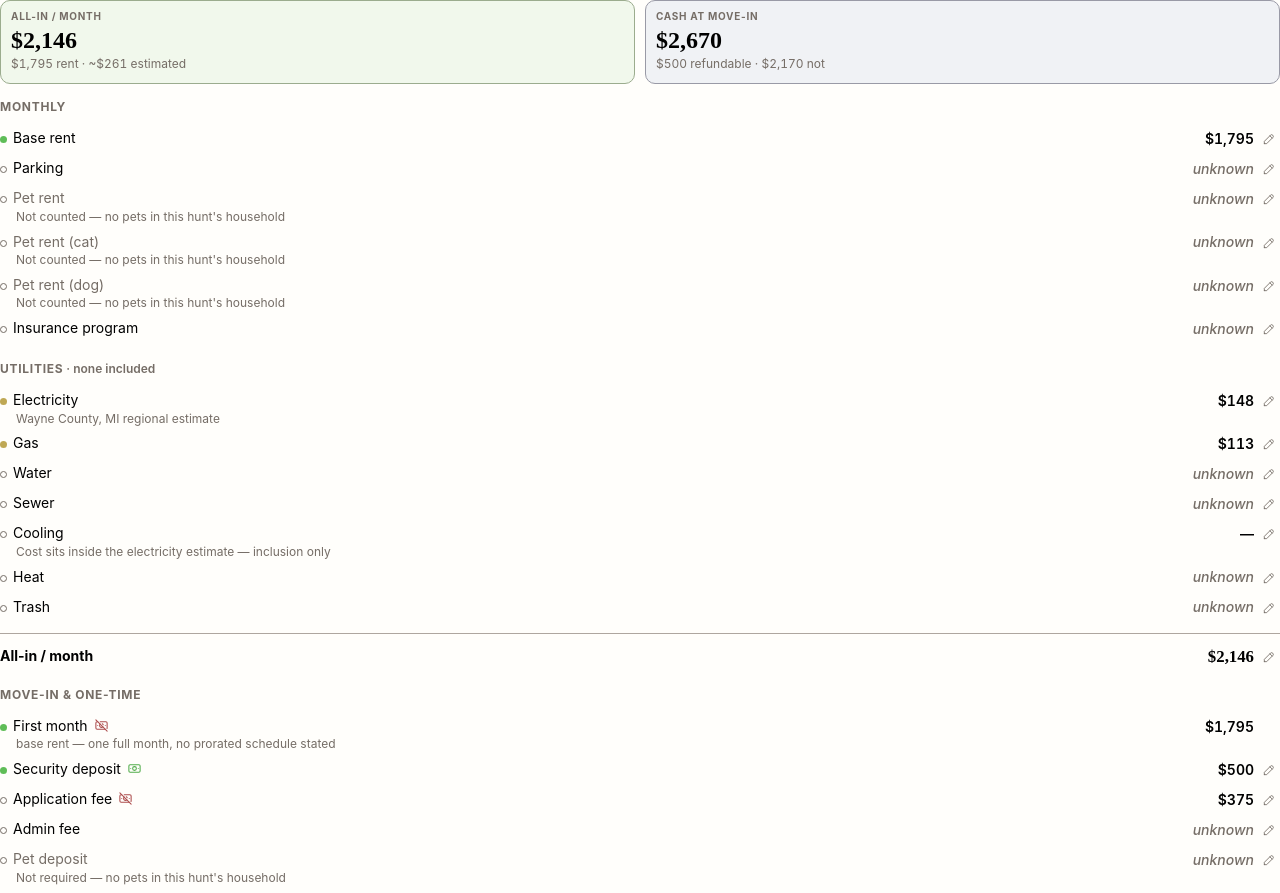
Scenario: CostAndFees › renders base rent as its own overrideable row
Expected: the 1st text "$1,795" is shown, [1205, 129, 1254, 150]
Step 1. Click the button named "edit Base rent" → (1269, 140), box [1258, 128, 1279, 150]
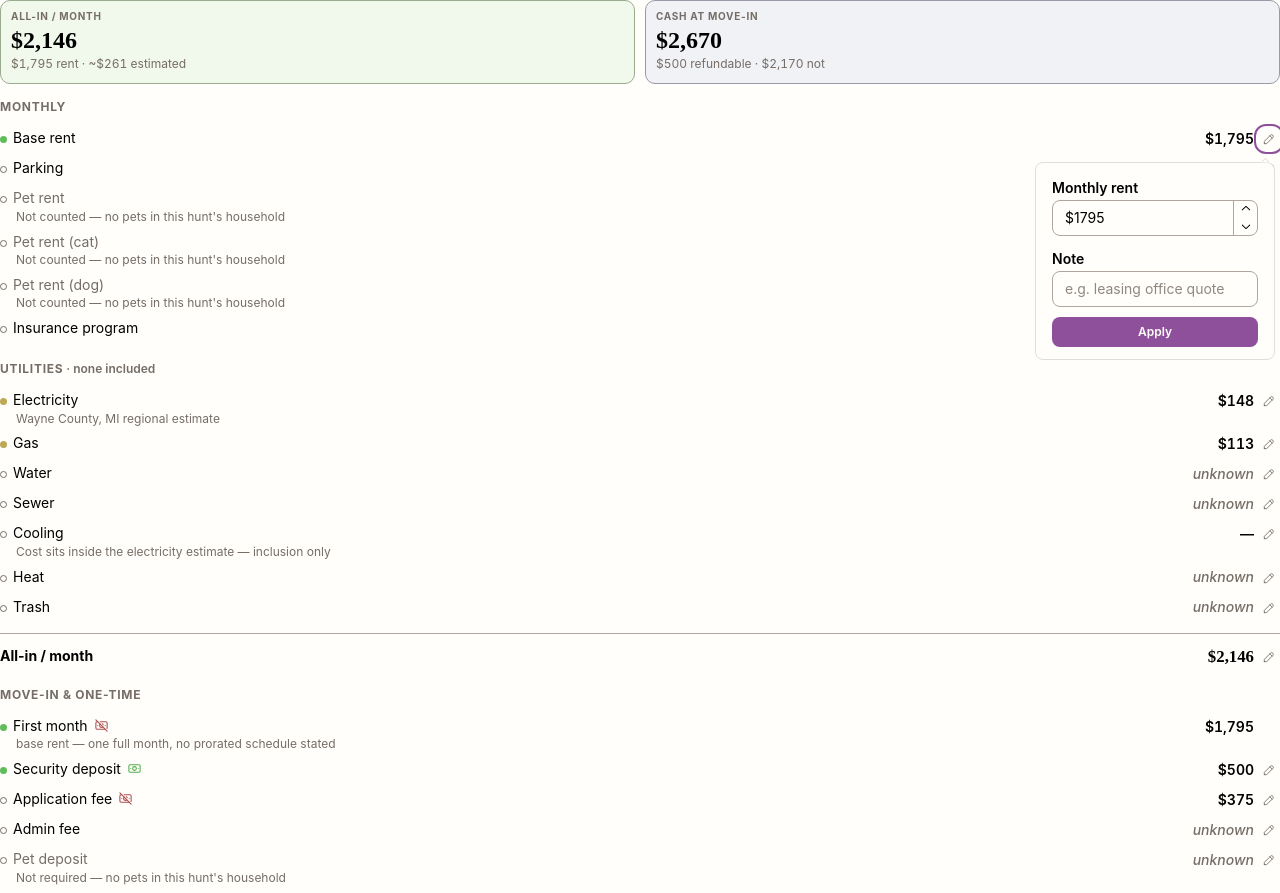
Expected: the field labelled "Note" is shown, [1052, 271, 1258, 307]
